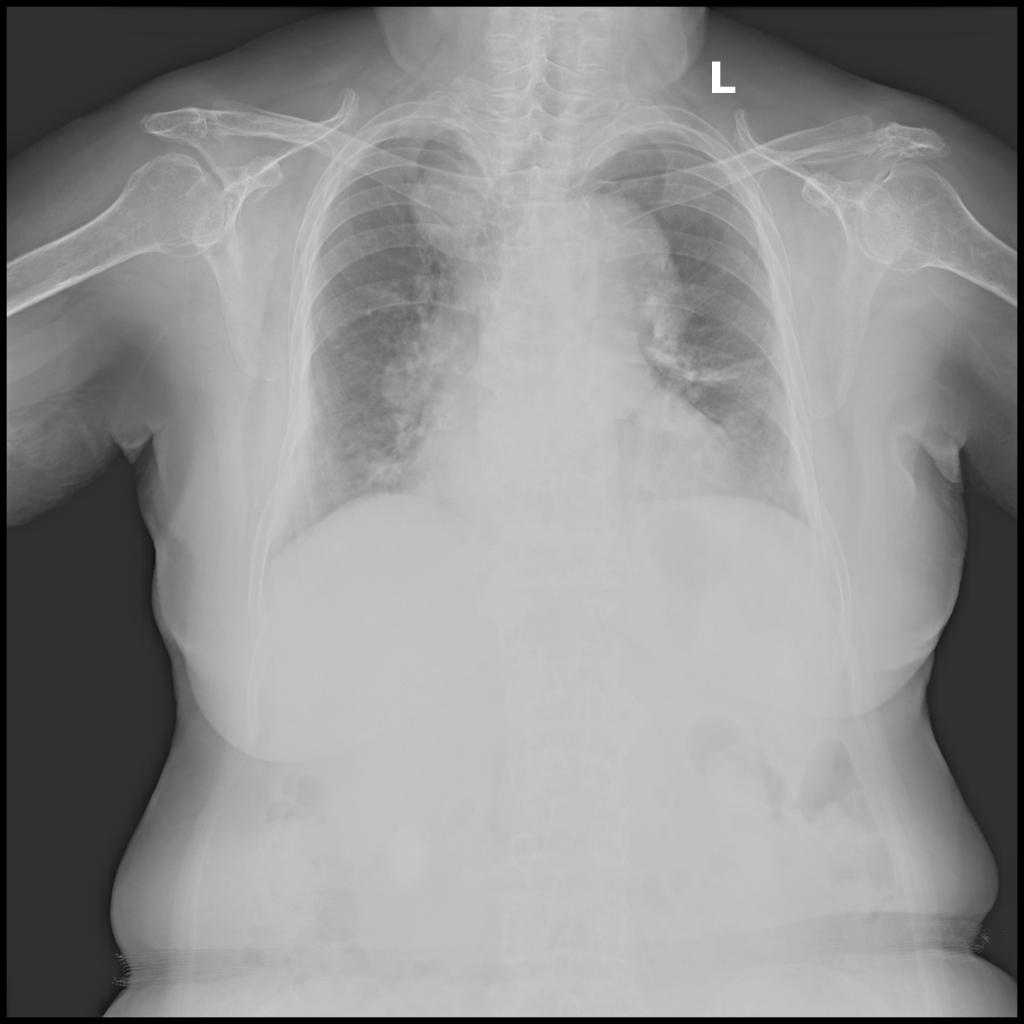Nodule: (407, 160, 496, 258), (371, 349, 435, 408)
